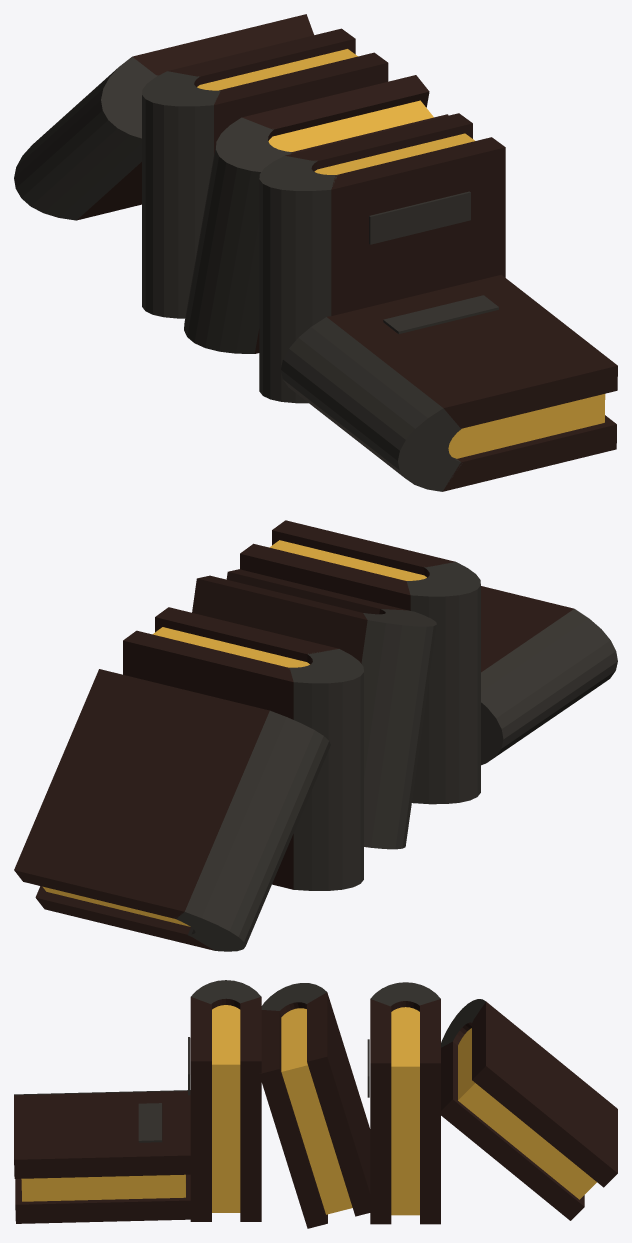
File: books.fbx
3 views of the same model, one above another, from view 1: azimuth 30°, elevation 25°; view 2: azimuth 150°, elevation 25°; view 3: azimuth 270°, elevation 25° (orthographic). The views are drawn at different scales.
Visible parts, largest first — view 1: Cylinder.006; view 2: Cylinder.006; view 3: Cylinder.006.
Boxes of the visible parts, x1,y1,x2,y2 form: Cylinder.006: [14, 14, 617, 491]; Cylinder.006: [14, 520, 617, 951]; Cylinder.006: [14, 980, 617, 1228].
Size of the model in its own units: 32.11 by 30.99 by 98.5.
